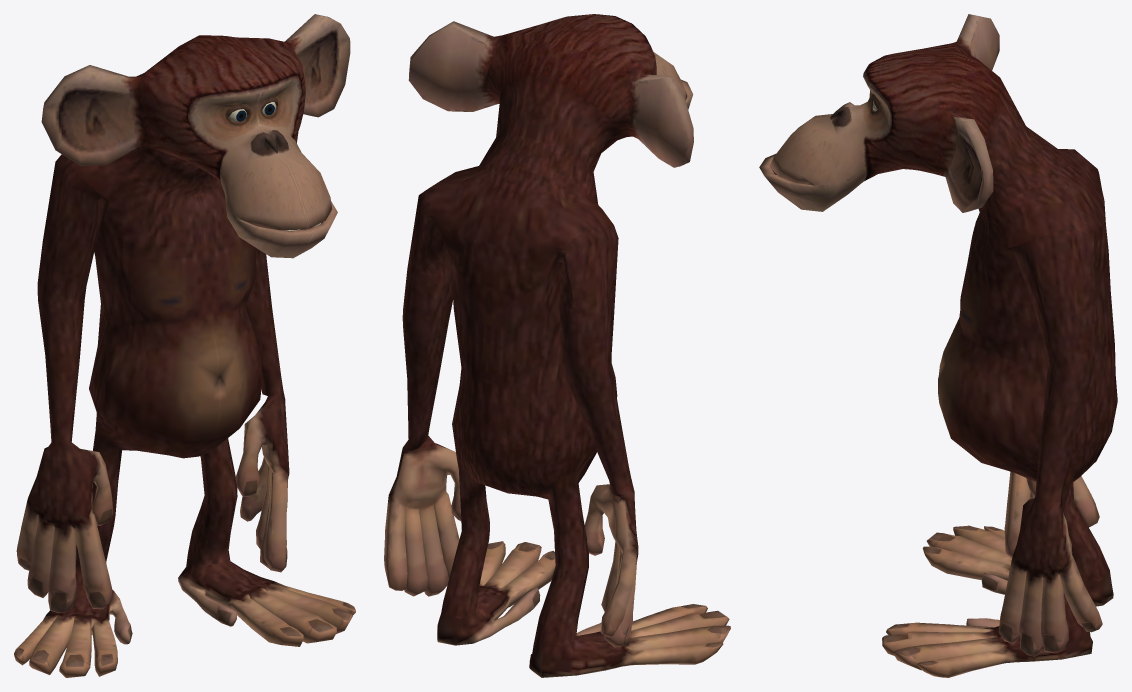
The model's file is phil.gltf.
The picture shows the model from 3 angles, left to right: view 1: azimuth 30°, elevation 25°; view 2: azimuth 150°, elevation 25°; view 3: azimuth 270°, elevation 25°; orthographic projection. The views are drawn at different scales.
Visible parts, largest first — view 1: Object_2; view 2: Object_2; view 3: Object_2.
Boxes of the visible parts, x1,y1,x2,y2 form: Object_2: (14, 14, 355, 677); Object_2: (384, 14, 730, 677); Object_2: (759, 14, 1117, 677).
Bounding box in the file's own units: 12.26 × 21.36 × 12.28.
Materials: 2 (2 with a texture image).
